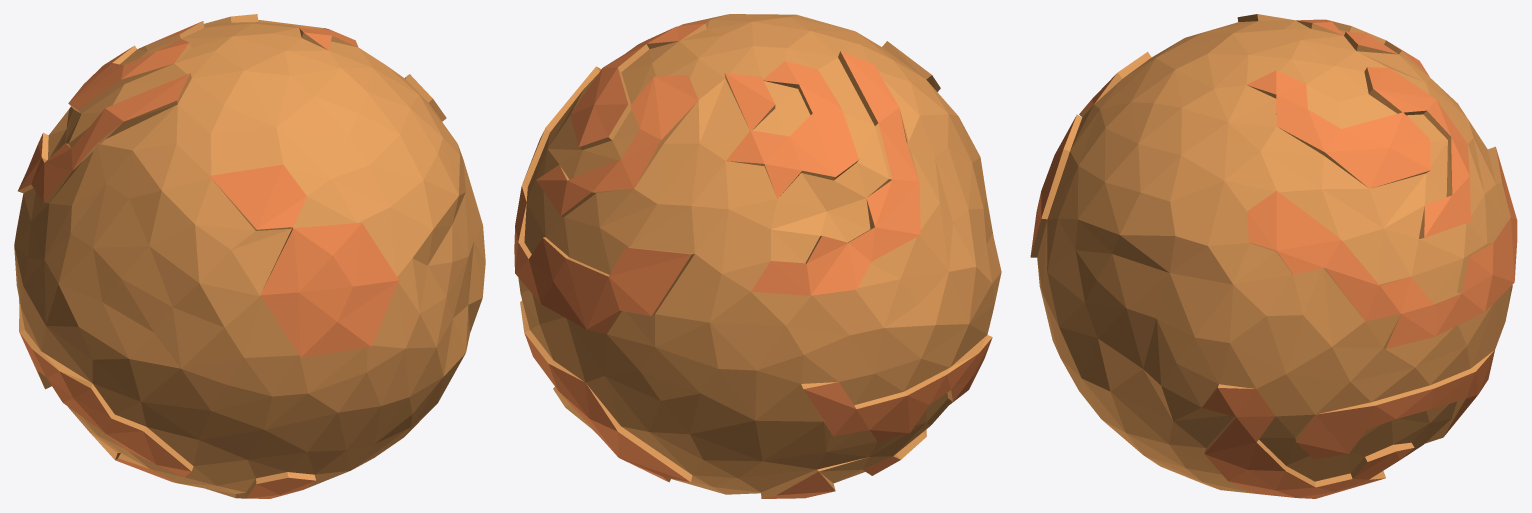
The model's file is mars.fbx.
3 renders of one model, left to right at view 1: azimuth 30°, elevation 25°; view 2: azimuth 150°, elevation 25°; view 3: azimuth 270°, elevation 25°, orthographic. The views are drawn at different scales.
Parts seen in each view (by area): view 1: Icosphere; view 2: Icosphere; view 3: Icosphere.
Boxes of the visible parts, <box> form: Icosphere: <box>14,14,485,498</box>; Icosphere: <box>514,14,1001,498</box>; Icosphere: <box>1030,14,1517,498</box>.
Size of the model in its own units: 200 by 202 by 205.
